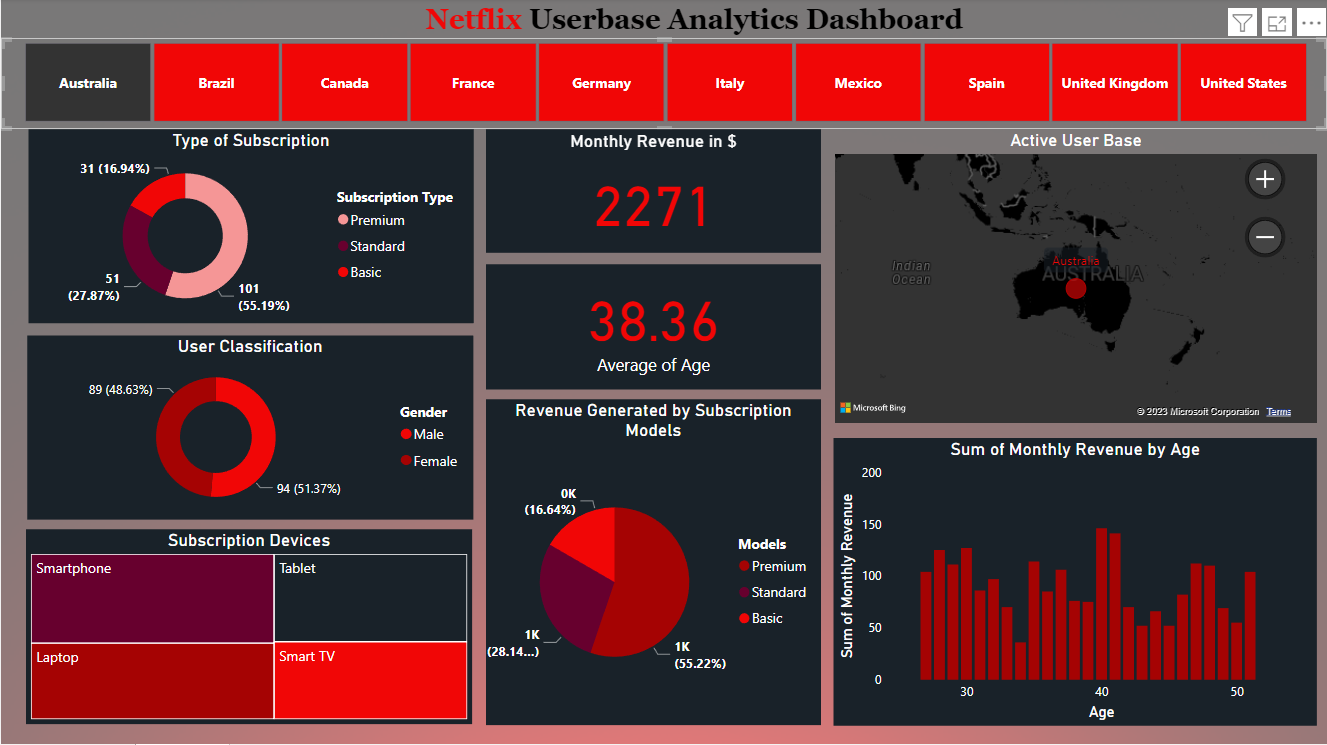

This screenshot's page, from the dashboard's own definition file:
{"tool":"powerbi","page":{"name":"Page 1","canvas":[1280,720],"ordinal":0},"visuals":[{"type":"lineClusteredColumnComboChart","fields":{"Category":["Netflix Userbase.Age"],"Y":["Sum(Netflix Userbase.Monthly Revenue)"]},"box":[803.2,424.5,466.7,277.4],"z":0},{"type":"map","title":"Active User Base","fields":{"Category":["Netflix Userbase.Country"],"Size":["CountNonNull(Netflix Userbase.User ID)"]},"box":[799.6,126.6,475.2,288.2],"z":1000},{"type":"donutChart","title":"Type of Subscription","fields":{"Category":["Netflix Userbase.Subscription Type"],"Y":["CountNonNull(Netflix Userbase.User ID)"]},"box":[26.5,126.6,429.3,186.9],"z":2000},{"type":"slicer","fields":{"Values":["Netflix Userbase.Country"]},"box":[0,38.6,1279.6,88],"z":3000},{"type":"card","fields":{"Values":["Avg(Netflix Userbase.Age)"]},"box":[467.9,256.9,323.2,120.6],"z":4000},{"type":"treemap","title":"Subscription Devices","fields":{"Values":["CountNonNull(Netflix Userbase.Count of Users)"],"Group":["Netflix Userbase.Device"]},"box":[24.1,512.6,430.6,188.1],"z":5000},{"type":"pieChart","title":"Revenue Generated by Subscription Models","fields":{"Category":["Netflix Userbase.Subscription Type"],"Y":["Sum(Netflix Userbase.Monthly Revenue)"]},"box":[467.9,387.1,323.2,314.8],"z":6000},{"type":"card","title":"Monthly Revenue in $","fields":{"Values":["Sum(Netflix Userbase.Monthly Revenue)"]},"box":[467.9,126.6,323.2,119.4],"z":7000},{"type":"donutChart","title":"User Classification","fields":{"Category":["Netflix Userbase.Gender"],"Y":["CountNonNull(Netflix Userbase.Age)"]},"box":[25.3,325.6,430.6,177.3],"z":8000},{"type":"textbox","box":[153.2,0,1031.2,48.2],"z":9000}]}

Visuals, with their boxes in screenshot pixels (x1, y1, x2, y2), scaled from the page's 1280x720 canvas onto the 1327x745 screenshot:
lineClusteredColumnComboChart - Netflix Userbase.Age x Sum(Netflix Userbase.Monthly Revenue): l=833, t=439, r=1317, b=726
"Active User Base" map: l=829, t=131, r=1322, b=429
"Type of Subscription" donutChart: l=27, t=131, r=473, b=324
slicer - Netflix Userbase.Country: l=0, t=40, r=1326, b=131
card - Avg(Netflix Userbase.Age): l=485, t=266, r=820, b=391
"Subscription Devices" treemap: l=25, t=530, r=471, b=725
"Revenue Generated by Subscription Models" pieChart: l=485, t=401, r=820, b=726
"Monthly Revenue in $" card: l=485, t=131, r=820, b=255
"User Classification" donutChart: l=26, t=337, r=473, b=520
textbox: l=159, t=0, r=1228, b=50
